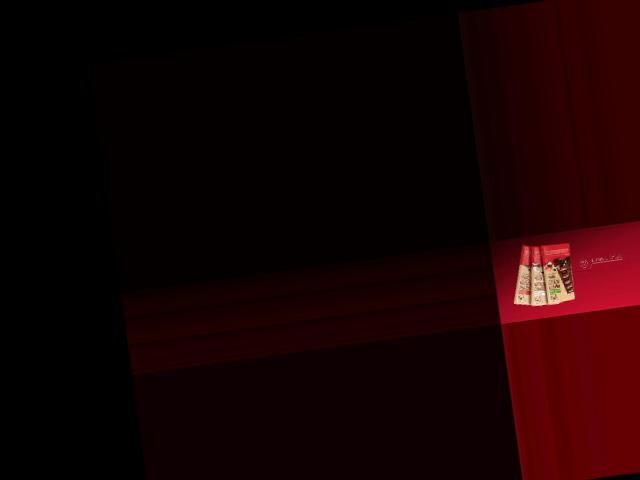chocolate: (505, 240, 545, 310)
